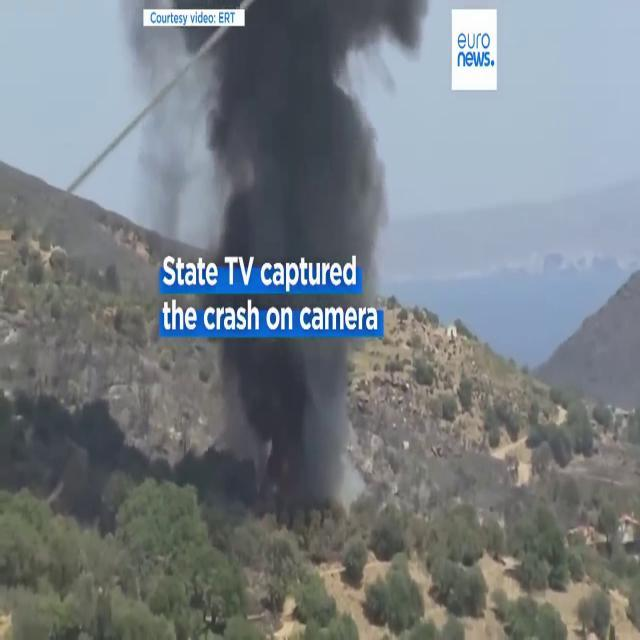Smoke: (188, 0, 412, 277), (202, 337, 366, 533)
